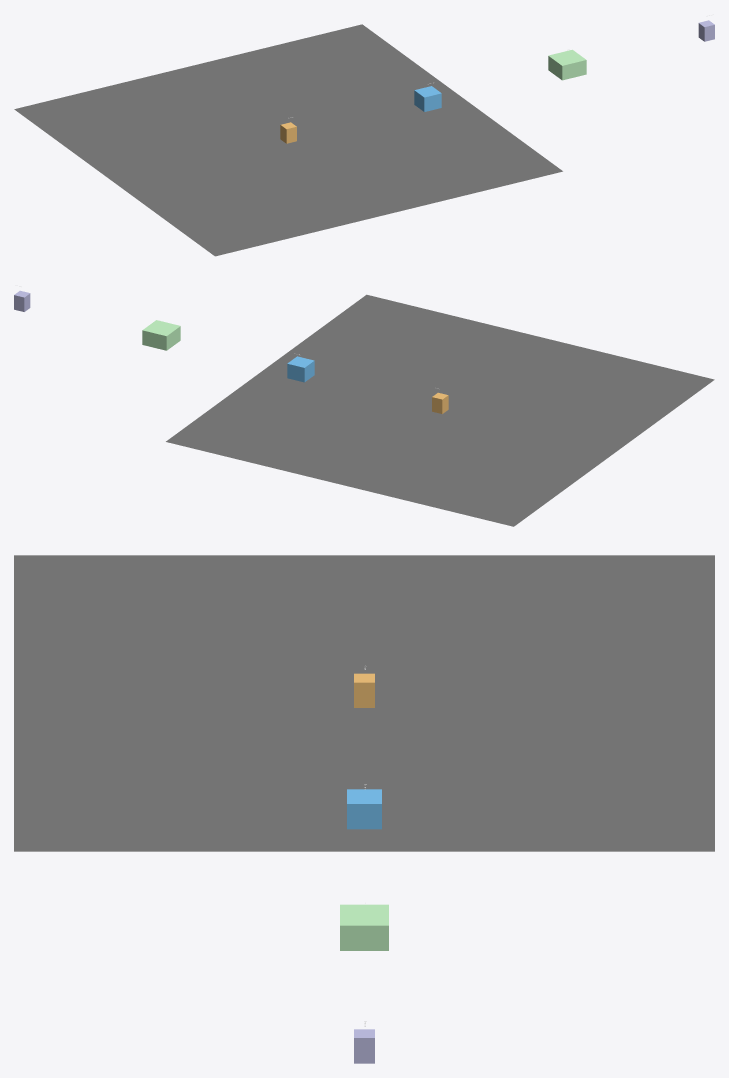
The model's file is house_c79512b9.glb.
3 renders of one model, top to bottom at view 1: azimuth 30°, elevation 25°; view 2: azimuth 150°, elevation 25°; view 3: azimuth 270°, elevation 25°, orthographic. The views are drawn at different scales.
Visible parts, largest first — view 1: Plane, hall, bedroom; view 2: Plane, hall, bedroom; view 3: Plane, hall, bedroom.
Boxes of the visible parts, x1=… form: Plane: x1=14, y1=24, x2=562, y2=256; hall: x1=548, y1=49, x2=586, y2=80; bedroom: x1=414, y1=86, x2=441, y2=111; Plane: x1=166, y1=294, x2=714, y2=526; hall: x1=142, y1=320, x2=180, y2=350; bedroom: x1=287, y1=356, x2=314, y2=382; Plane: x1=14, y1=555, x2=714, y2=851; hall: x1=340, y1=904, x2=388, y2=950; bedroom: x1=347, y1=789, x2=381, y2=829.
Size of the model in its own units: 172 by 6.01 by 100.
